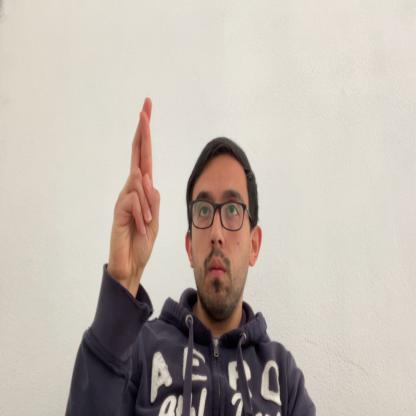R: (110, 98, 161, 283)
